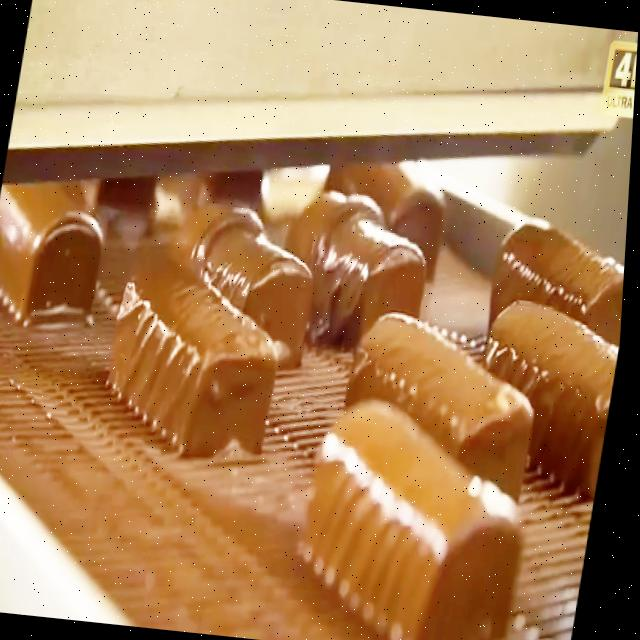Choco: (290, 388, 552, 640), (334, 303, 556, 502), (96, 256, 297, 465), (156, 192, 332, 370), (274, 186, 455, 345), (484, 211, 630, 349), (0, 171, 117, 333), (319, 170, 459, 284)
